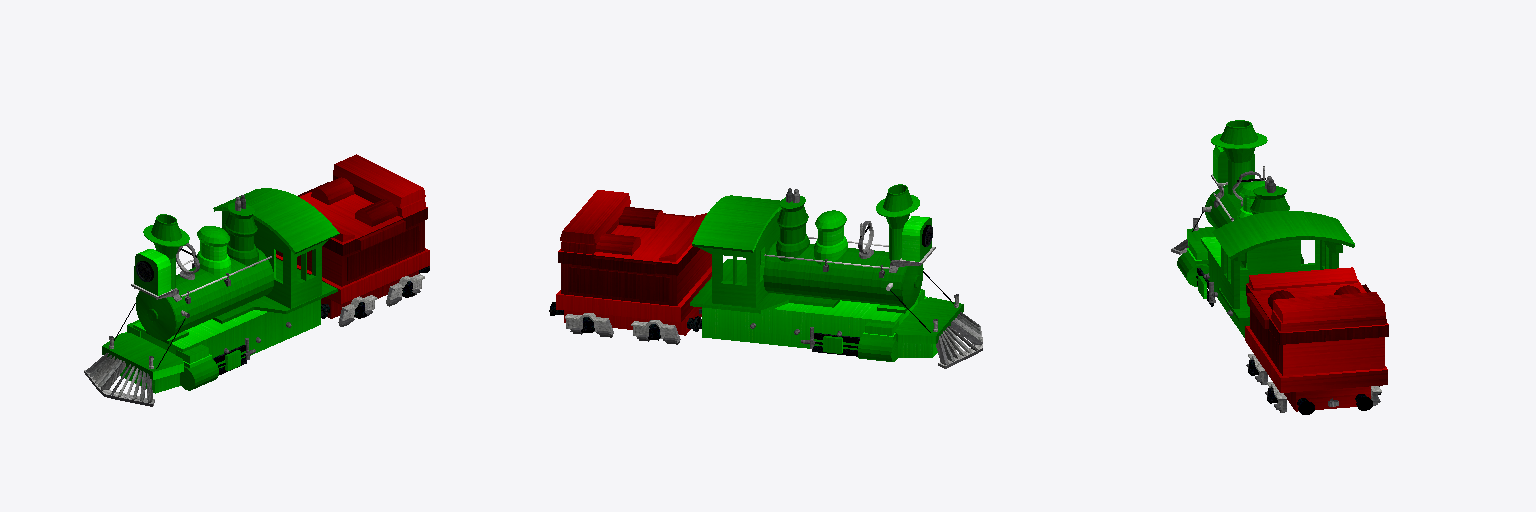
3 renders of one model, left to right at view 1: azimuth 30°, elevation 25°; view 2: azimuth 150°, elevation 25°; view 3: azimuth 270°, elevation 25°, orthographic.
Visible parts, largest first — view 1: Tren; view 2: Tren; view 3: Tren.
Boxes of the visible parts, x1=… form: Tren: x1=84, y1=154, x2=429, y2=406; Tren: x1=549, y1=184, x2=982, y2=368; Tren: x1=1171, y1=120, x2=1388, y2=414.
Bounding box in the file's own units: 3.81 × 1.56 × 1.96.
6 materials, 4 textured.